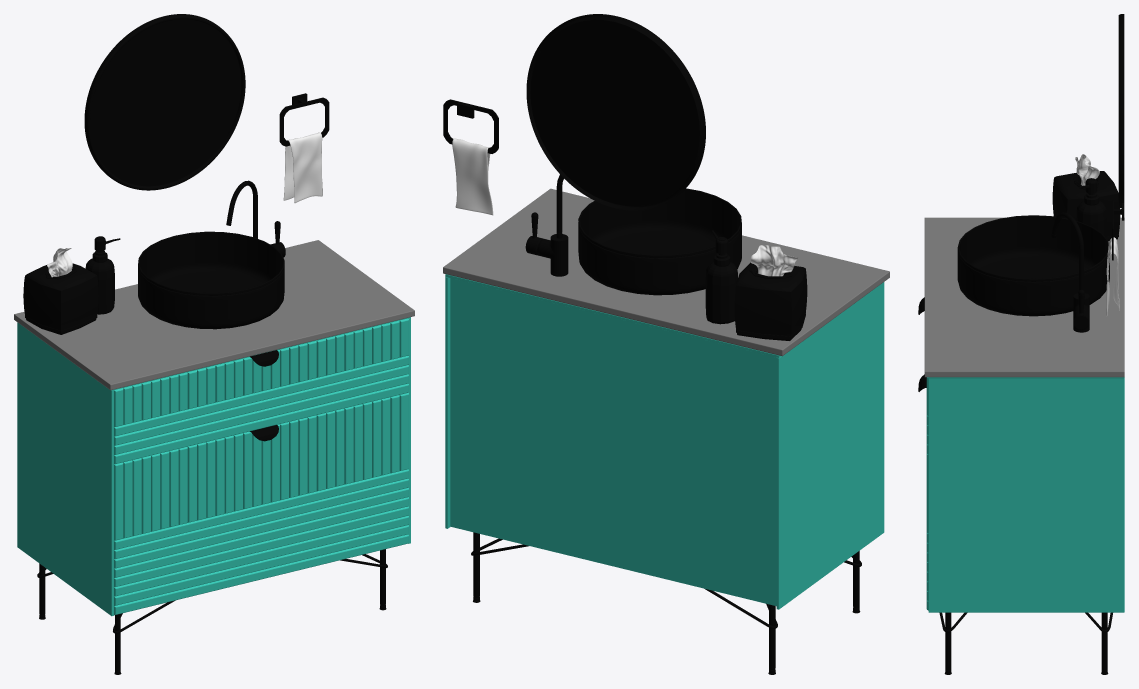
The model's file is uploads_files_2030810_Bathroom+IKEA+hacks+Vray.FBX.
3 views of the same model, side by side, from view 1: azimuth 30°, elevation 25°; view 2: azimuth 150°, elevation 25°; view 3: azimuth 270°, elevation 25° (orthographic). The views are drawn at different scales.
Parts seen in each view (by area): view 1: Rectangle001, Box001, Marble, Mirror, Faucet, kleenex tissue box, Mirror_Base, Towel, Liquid soap, Towel Base; view 2: Rectangle001, Box001, Mirror, Marble, Faucet (×2), kleenex tissue box, Mirror_Base, Towel, Liquid soap, Box003, Box002, kleenex tissue (+1 smaller); view 3: Box003, Marble, Faucet (×3), kleenex tissue box, Mirror_Base, Liquid soap, Rectangle001, Towel, kleenex tissue, Line021, Line022, Box002.
Boxes of the visible parts, x1,y1,x2,y2 form: Rectangle001: [114, 318, 408, 615]; Box001: [17, 322, 113, 616]; Marble: [14, 240, 414, 390]; Mirror: [90, 19, 241, 186]; Faucet: [138, 231, 284, 329]; kleenex tissue box: [23, 263, 98, 334]; Mirror_Base: [84, 14, 245, 190]; Towel: [283, 132, 322, 203]; Liquid soap: [85, 236, 120, 314]; Towel Base: [279, 97, 329, 146]; Rectangle001: [450, 278, 776, 606]; Box001: [776, 282, 884, 609]; Mirror: [530, 18, 701, 206]; Marble: [443, 188, 889, 356]; Faucet (×2): [525, 188, 741, 295]; kleenex tissue box: [734, 262, 807, 340]; Mirror_Base: [526, 14, 705, 210]; Towel: [452, 138, 493, 215]; Liquid soap: [705, 230, 737, 324]; Box003: [445, 277, 450, 528]; Box002: [445, 274, 781, 357]; kleenex tissue: [750, 245, 797, 276]; Box003: [928, 379, 1124, 612]; Marble: [924, 217, 1124, 377]; Faucet (×3): [957, 212, 1109, 332]; kleenex tissue box: [1052, 171, 1120, 241]; Mirror_Base: [1118, 14, 1124, 208]; Liquid soap: [1076, 178, 1106, 238]; Rectangle001: [926, 377, 928, 610]; Towel: [1106, 237, 1119, 316]; kleenex tissue: [1075, 154, 1099, 185]; Line021: [944, 612, 951, 674]; Line022: [1101, 612, 1108, 674]; Box002: [928, 377, 1124, 378].
Size of the model in its own units: 94.57 by 164 by 52.62.
